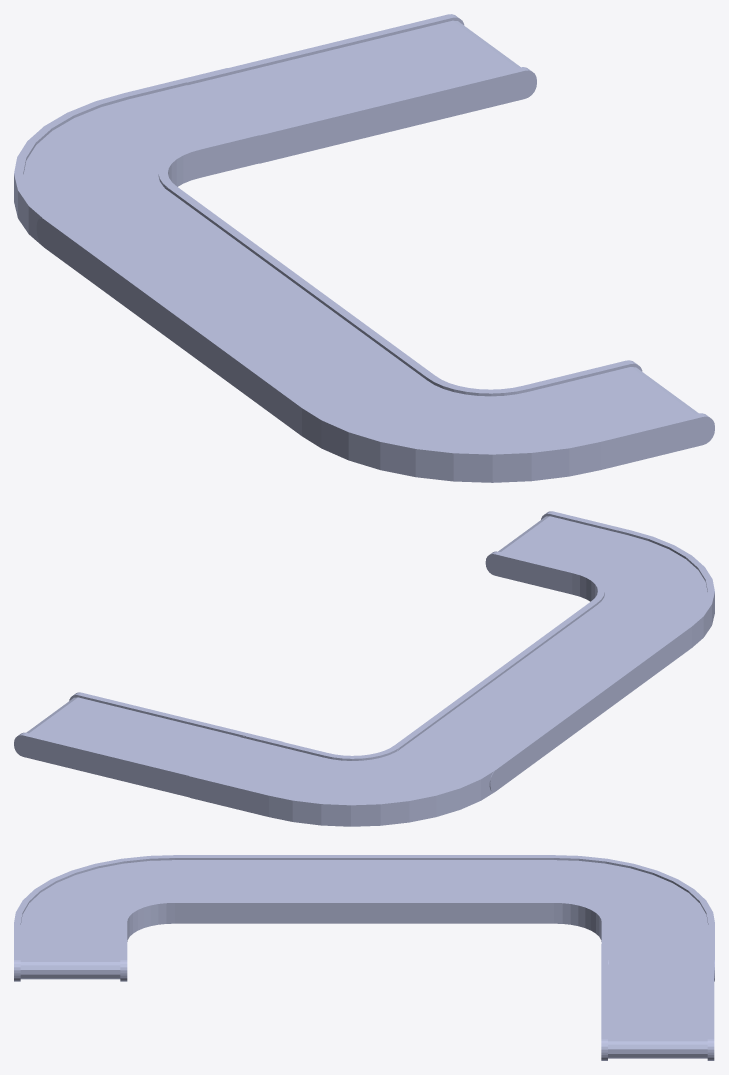
File: conveyer.fbx
3 renders of one model, top to bottom at view 1: azimuth 30°, elevation 25°; view 2: azimuth 150°, elevation 25°; view 3: azimuth 270°, elevation 25°, orthographic. The views are drawn at different scales.
Visible parts, largest first — view 1: conver_1; view 2: conver_1; view 3: conver_1.
Boxes of the visible parts, x1=… form: conver_1: x1=14, y1=14, x2=714, y2=482; conver_1: x1=14, y1=511, x2=714, y2=826; conver_1: x1=14, y1=855, x2=714, y2=1060.
Bounding box in the file's own units: 216 × 11.11 × 340.
